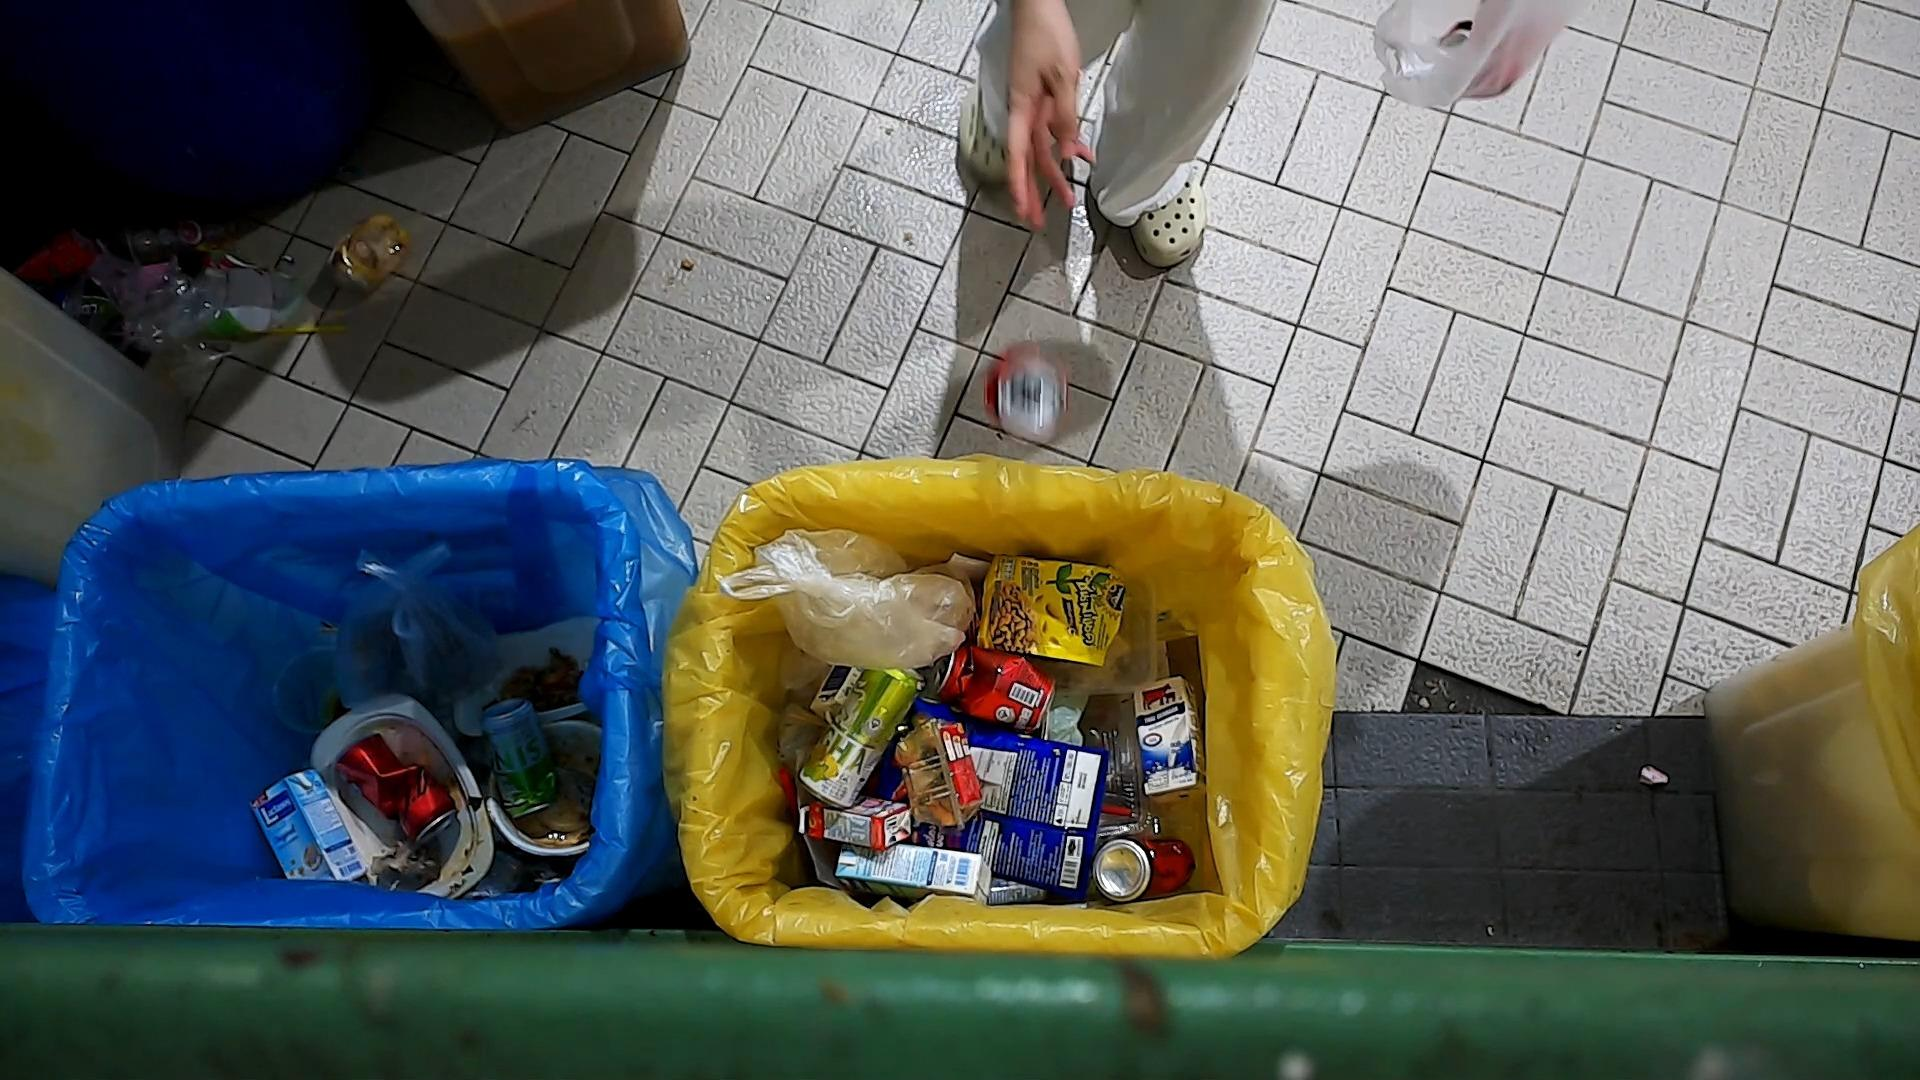can: (796, 646, 919, 808), (336, 733, 462, 847), (944, 649, 1067, 742), (480, 692, 564, 822), (1087, 831, 1200, 899), (986, 347, 1068, 438)
dirty food container: (305, 713, 487, 897), (481, 721, 608, 870), (447, 615, 597, 736), (894, 702, 988, 818)
filled plastic bag: (741, 516, 975, 658), (322, 538, 496, 687)
milk carton: (244, 769, 365, 882), (847, 829, 1007, 905), (1130, 673, 1208, 799), (795, 782, 914, 858)
snack packaging: (874, 705, 1100, 897), (981, 562, 1129, 667)
